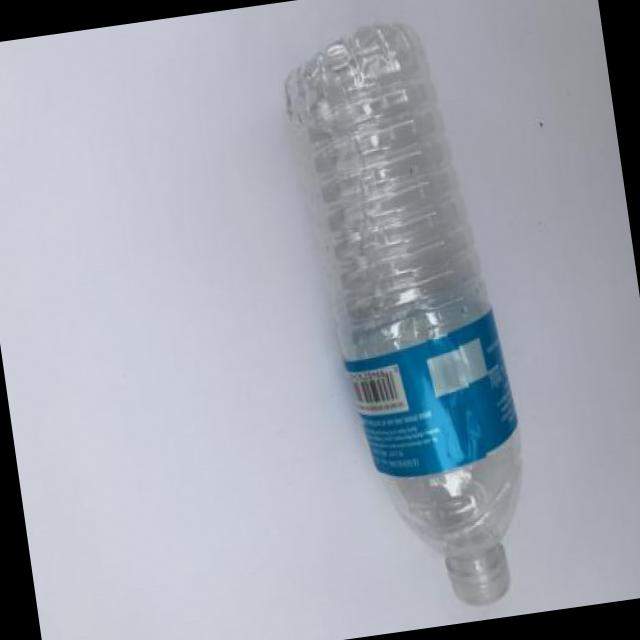Recycle: (277, 19, 552, 602)
